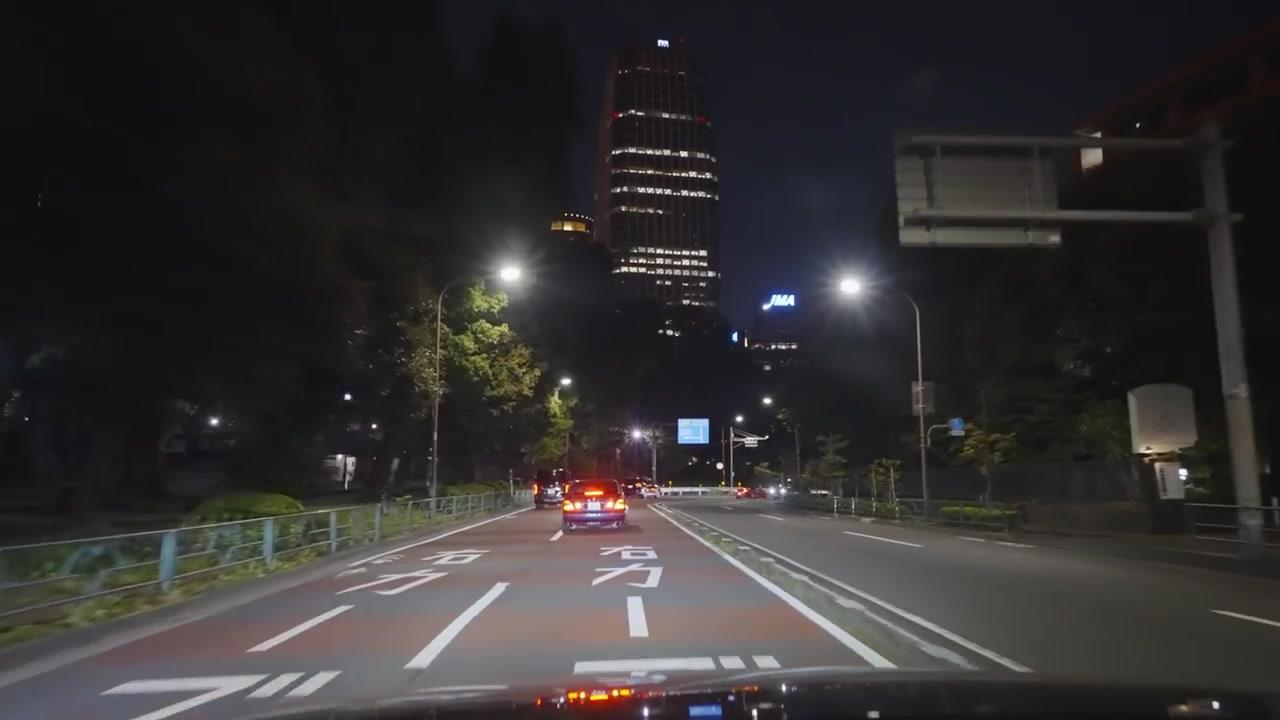car: (561, 477, 628, 532), (536, 486, 563, 506), (734, 485, 769, 500)
